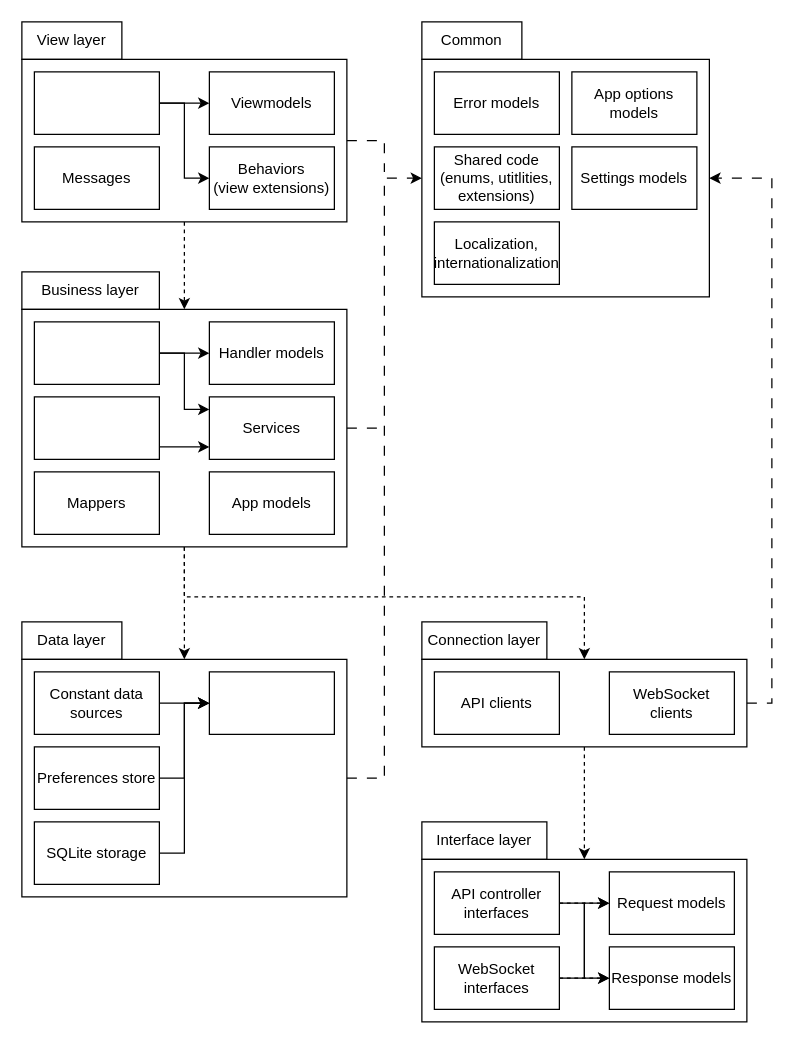
Image size: 804x1044. Some labels were removed from this diagram. Each missing label, with the centre of its shape:
"Background services" goes at point 96,427.
"Request handlers" goes at point 96,352.
"Storage models" goes at point 271,702.
"Views" goes at point 96,102.
